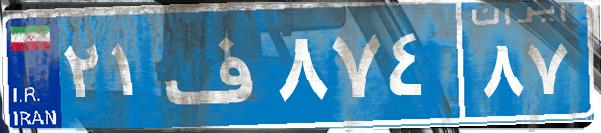1: (110, 28, 158, 105)
2: (57, 26, 110, 107)
4: (385, 28, 445, 110)
7: (330, 28, 385, 110), (525, 38, 570, 115)
8: (273, 28, 330, 110), (475, 38, 525, 113)
ف: (158, 15, 273, 115)
